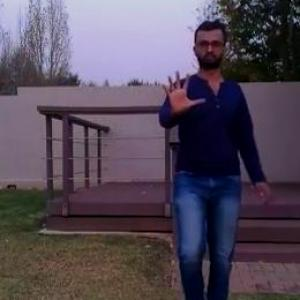follow_hand: (157, 66, 206, 115)
